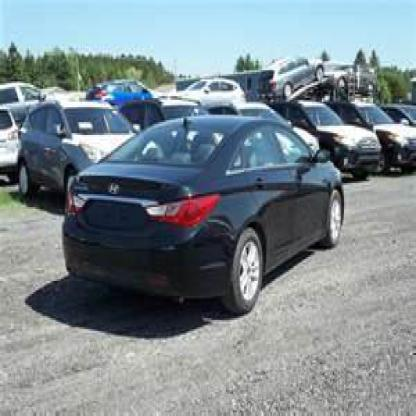car: (65, 107, 336, 338), (15, 98, 139, 207), (339, 97, 416, 177)
